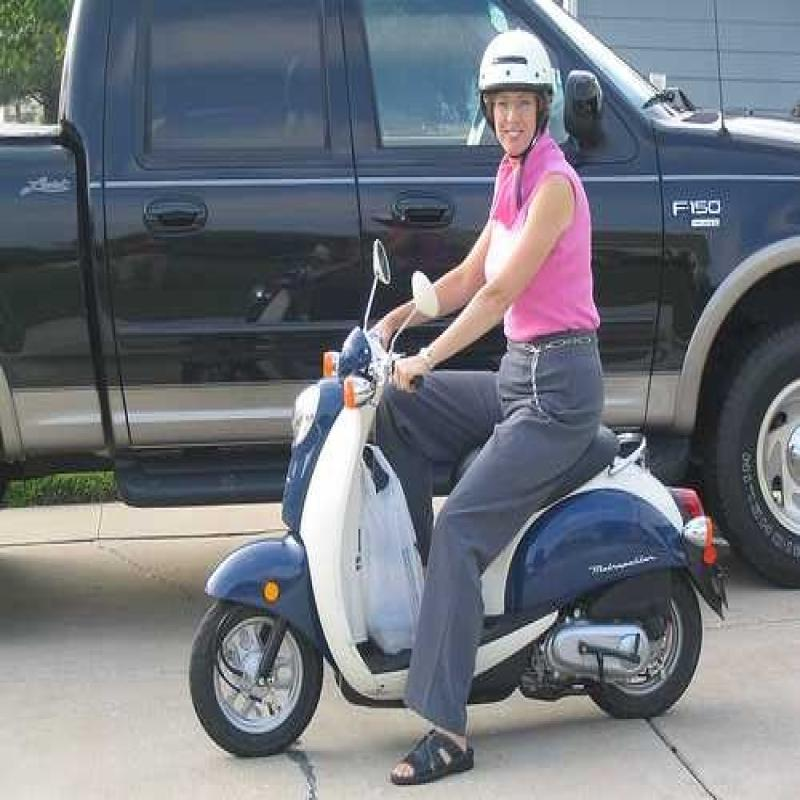bike: (179, 228, 727, 746)
